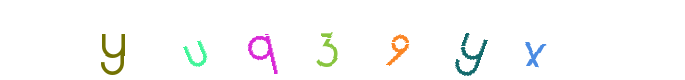3: (303, 0, 383, 80)
9: (335, 0, 415, 80)
Q: (233, 0, 313, 80)
U: (224, 0, 304, 80)
X: (430, 0, 510, 80)
Y: (74, 0, 154, 80), (358, 0, 438, 80)
